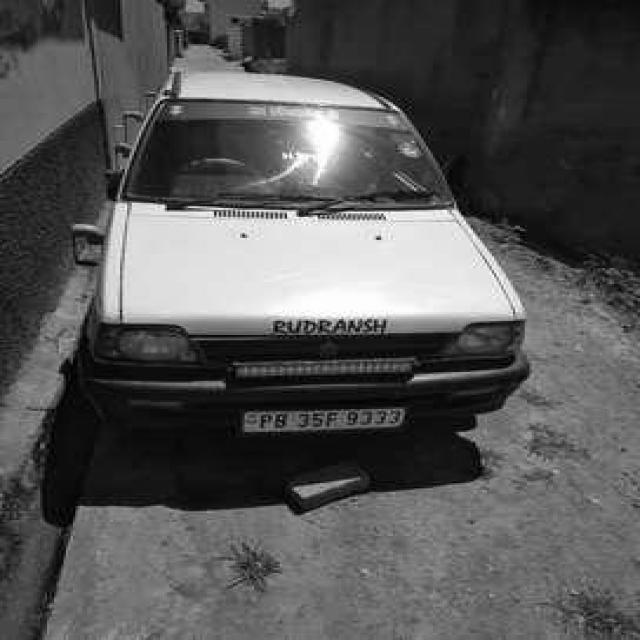license-plate: (80, 65, 536, 448), (242, 407, 405, 430)
